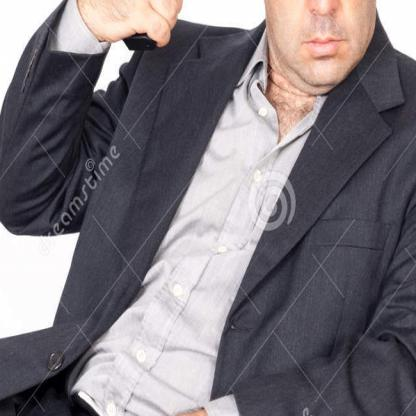gun: (122, 0, 259, 52)
